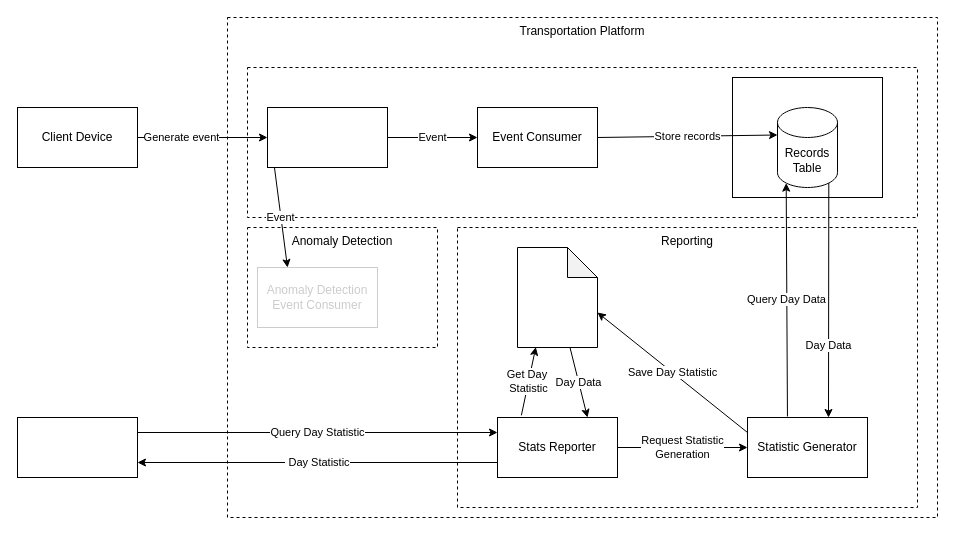
This 955x535 diagram has some shape labels left out. The box of each missing label's shape, as (x1, y1, x2, y2) in pixels:
Data Collectors: (246, 66, 918, 218)
Event Hub: (266, 106, 388, 168)
Reporting Frontend: (16, 416, 138, 478)
Reports Blob Storage: (516, 246, 598, 348)
Storage: (732, 76, 882, 198)
